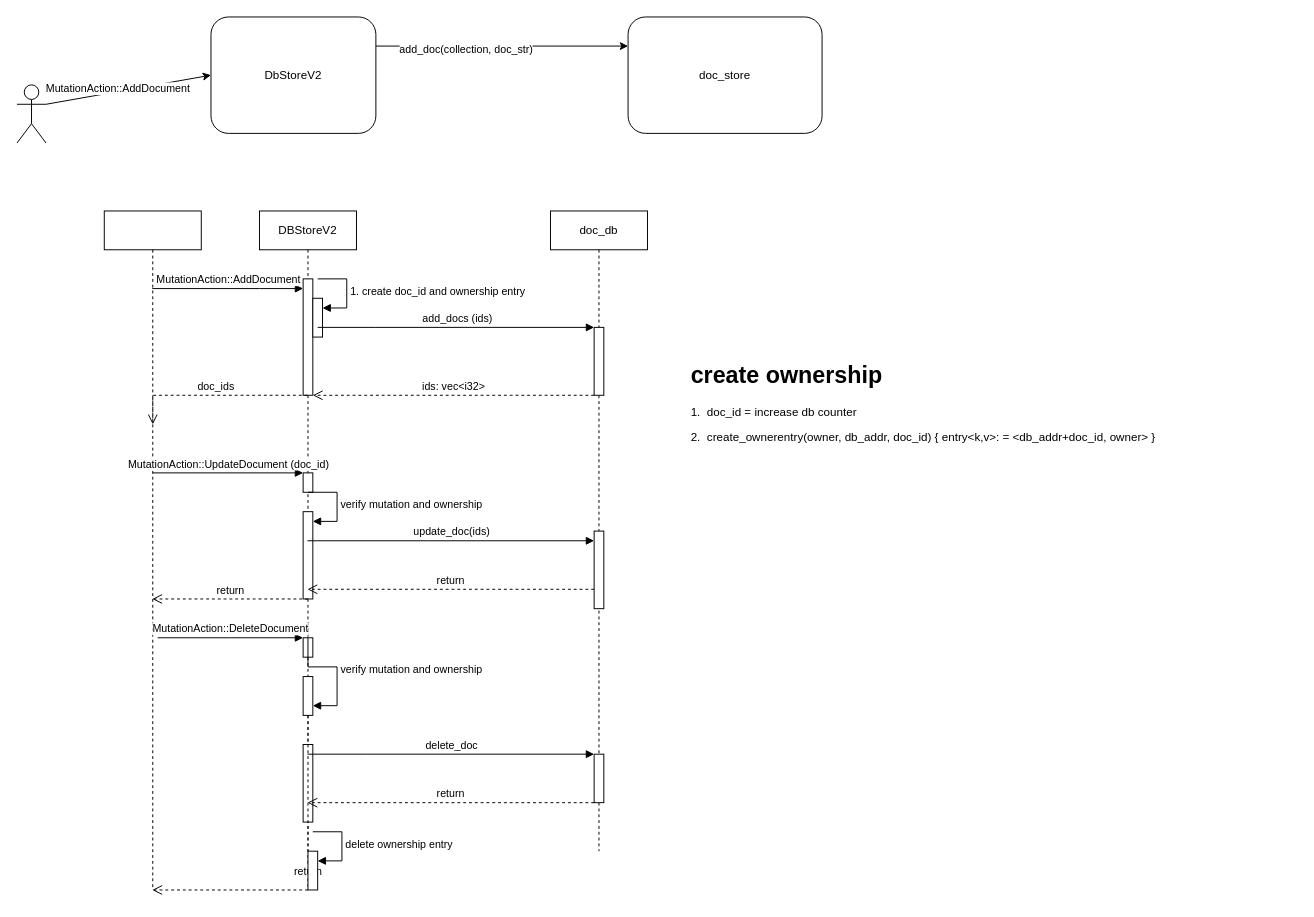
Image size: 1314x917. Some labels were removed from this diagram. Here are the shapes that lost their labels. From the top down, the box of each, then its label:
(16, 84, 46, 143): Actor
(103, 210, 201, 890): Client
